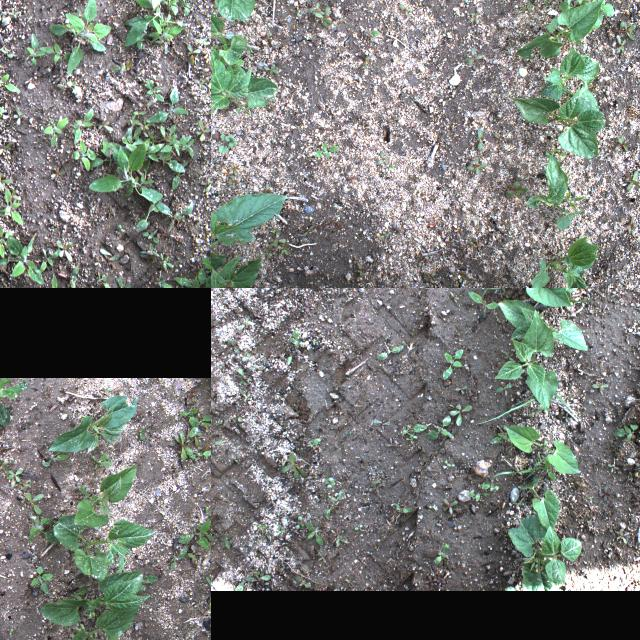crop: (50, 511, 160, 584), (41, 569, 151, 640), (211, 192, 287, 285), (494, 308, 558, 412), (513, 0, 614, 59), (510, 96, 606, 158), (509, 511, 581, 589), (525, 148, 591, 230), (46, 396, 142, 452), (499, 298, 589, 350), (70, 463, 136, 529), (211, 54, 278, 118), (539, 44, 601, 110), (523, 236, 600, 288), (505, 426, 579, 474), (211, 4, 252, 65), (518, 476, 560, 532), (211, 253, 263, 288), (213, 0, 269, 22), (524, 288, 587, 306)
weed: (50, 0, 111, 74), (88, 144, 164, 202), (474, 392, 580, 424), (0, 232, 43, 284), (123, 0, 168, 45), (0, 378, 29, 428), (147, 86, 187, 122), (137, 22, 185, 50), (176, 512, 210, 550), (90, 138, 130, 168), (156, 199, 192, 231), (122, 128, 164, 152), (125, 12, 185, 28), (27, 517, 61, 545), (172, 428, 198, 460), (0, 185, 13, 247), (72, 108, 94, 144), (42, 116, 68, 146), (23, 488, 49, 518), (72, 139, 96, 171), (187, 410, 211, 442), (426, 414, 454, 441), (136, 198, 158, 232), (32, 564, 56, 594), (4, 187, 22, 225), (282, 452, 308, 478), (175, 267, 207, 288), (493, 466, 541, 480), (442, 348, 463, 379), (148, 154, 184, 172), (160, 136, 192, 156), (468, 291, 500, 311), (178, 403, 200, 431), (40, 42, 70, 62), (450, 402, 472, 428), (172, 160, 190, 190), (28, 33, 44, 66), (610, 20, 636, 40), (402, 423, 428, 443), (92, 448, 115, 469), (40, 248, 60, 272), (505, 180, 529, 200), (39, 452, 73, 466), (190, 434, 207, 462), (611, 424, 640, 440), (467, 154, 488, 176), (313, 142, 341, 158), (134, 420, 156, 440), (166, 544, 186, 566), (146, 77, 164, 101), (622, 168, 640, 192), (305, 521, 323, 545), (376, 345, 404, 359), (490, 426, 514, 442), (0, 72, 20, 91), (0, 225, 12, 256), (218, 134, 238, 152), (268, 228, 288, 246), (464, 46, 484, 64), (57, 240, 73, 262), (196, 118, 210, 142), (436, 542, 450, 566), (246, 569, 270, 583), (612, 134, 630, 152), (6, 464, 24, 482), (324, 496, 340, 516), (161, 123, 177, 141), (624, 216, 640, 234), (321, 6, 333, 28), (180, 138, 193, 158), (398, 2, 414, 18), (12, 106, 26, 124), (160, 252, 174, 270), (454, 270, 472, 284), (234, 576, 252, 590), (110, 61, 134, 71), (97, 272, 112, 288), (188, 44, 200, 64), (288, 328, 300, 348), (310, 1, 324, 18), (140, 242, 158, 255), (179, 0, 194, 15), (263, 62, 279, 76), (238, 316, 255, 329), (474, 128, 484, 150), (467, 492, 489, 502), (70, 264, 79, 288), (100, 248, 118, 260), (115, 276, 133, 288), (440, 499, 458, 511), (201, 256, 211, 277), (165, 0, 179, 15), (543, 459, 553, 479), (377, 152, 391, 166), (424, 270, 438, 284), (50, 275, 65, 288), (142, 230, 158, 242), (359, 54, 371, 70), (296, 574, 312, 586), (393, 503, 412, 513), (0, 171, 11, 188), (366, 28, 379, 42), (616, 34, 626, 52), (592, 382, 610, 392), (373, 420, 391, 430), (382, 436, 400, 446), (298, 226, 314, 237), (278, 242, 290, 256), (312, 434, 326, 446), (296, 516, 310, 528), (598, 486, 610, 500), (158, 278, 174, 288), (386, 113, 402, 123), (617, 528, 627, 544), (480, 482, 500, 490), (471, 10, 482, 24), (1, 46, 16, 56), (0, 142, 12, 154), (228, 162, 240, 174), (264, 246, 276, 258), (495, 384, 513, 392), (240, 390, 252, 402), (528, 406, 546, 414), (228, 174, 238, 188), (454, 384, 468, 394), (131, 115, 143, 126), (521, 0, 533, 11), (324, 478, 336, 489), (371, 482, 384, 492), (224, 533, 232, 549), (194, 78, 206, 88), (607, 463, 619, 473), (450, 290, 460, 302), (628, 456, 640, 466), (356, 262, 364, 276), (631, 231, 640, 243), (205, 174, 211, 191), (9, 8, 19, 18), (10, 190, 20, 200), (504, 351, 514, 361), (561, 412, 571, 422), (606, 439, 616, 449), (198, 37, 210, 45), (100, 122, 112, 130), (143, 118, 151, 130), (335, 534, 343, 546), (95, 257, 104, 267), (629, 471, 637, 481), (205, 276, 211, 288), (214, 440, 232, 444), (501, 288, 509, 297), (132, 110, 148, 114), (356, 523, 364, 531), (276, 528, 286, 534), (258, 524, 268, 530), (0, 13, 7, 20), (444, 460, 450, 468), (498, 288, 504, 296), (428, 504, 434, 510), (120, 224, 124, 232), (176, 286, 179, 288)
